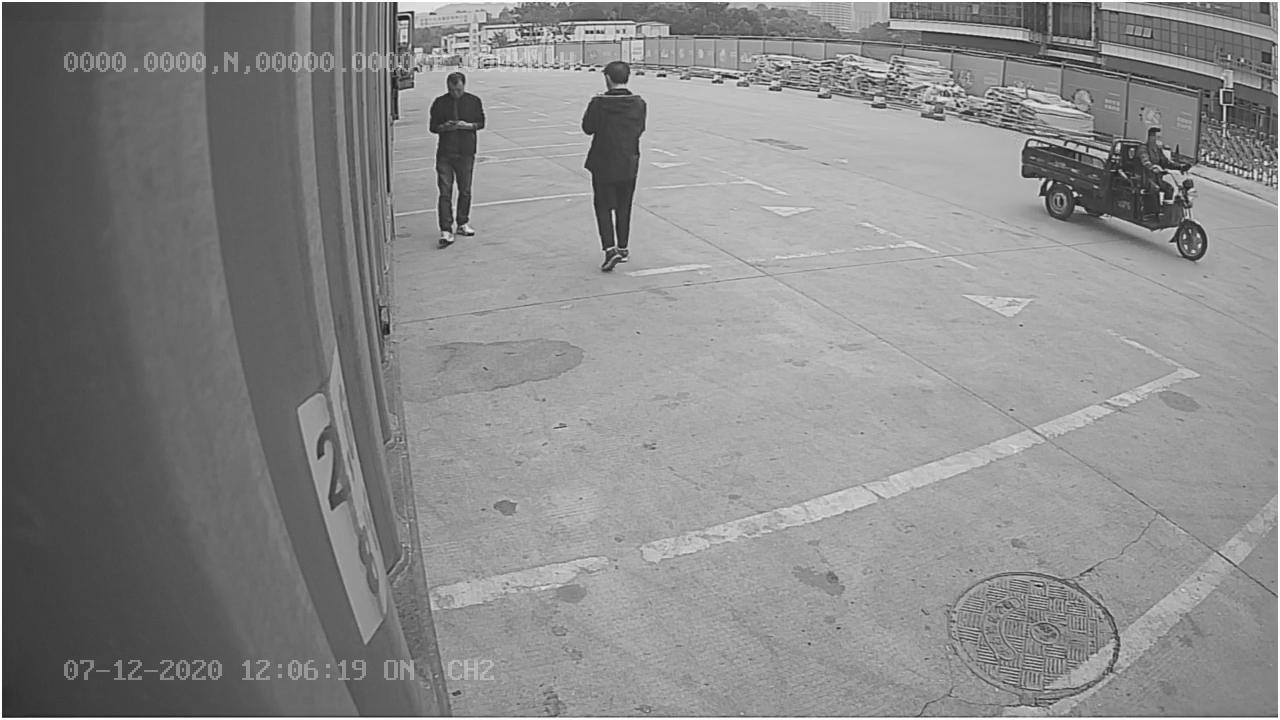person: (582, 59, 650, 272)
